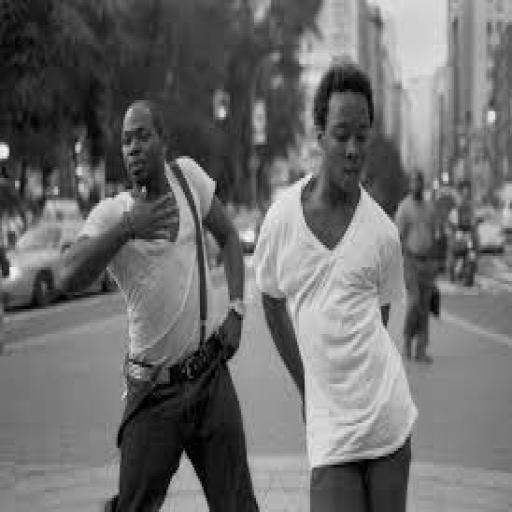dancing: (50, 95, 262, 509), (252, 58, 420, 510)
